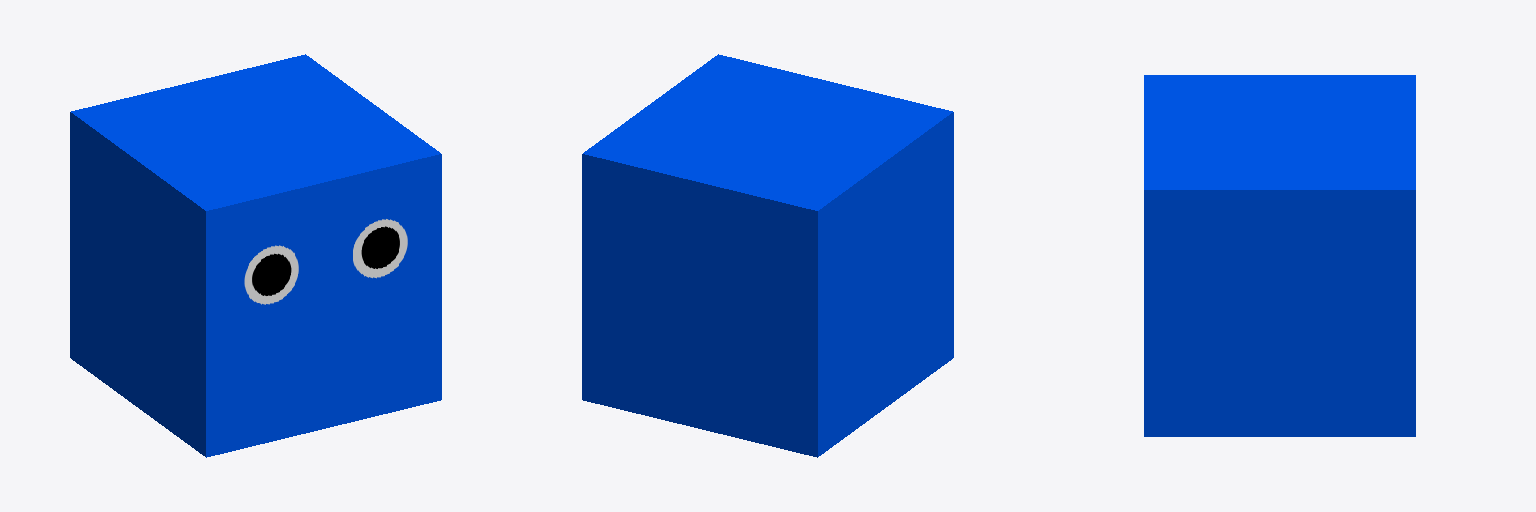
3 views of the same model, side by side, from view 1: azimuth 30°, elevation 25°; view 2: azimuth 150°, elevation 25°; view 3: azimuth 270°, elevation 25° (orthographic).
Visible parts, largest first — view 1: Cube; view 2: Cube; view 3: Cube.
Part boxes in pixels (x1,y1,x2,y2): Cube: (70,54,441,457); Cube: (582,54,953,457); Cube: (1144,75,1415,436).
Size of the model in its own units: 2 by 2 by 2.
1 materials, 1 textured.